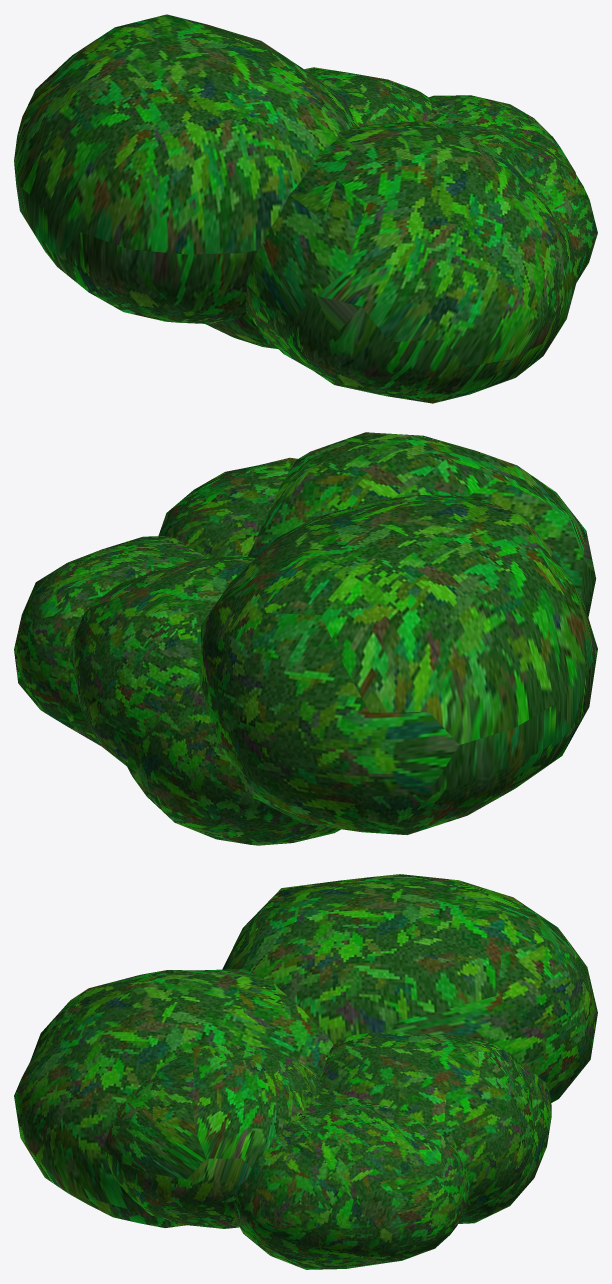
The model's file is plant_bushLarge.glb.
3 renders of one model, top to bottom at view 1: azimuth 30°, elevation 25°; view 2: azimuth 150°, elevation 25°; view 3: azimuth 270°, elevation 25°, orthographic. The views are drawn at different scales.
Visible parts, largest first — view 1: Canopy_3, Canopy_5, Canopy_6, Canopy_1, Canopy_0, Canopy_4; view 2: Canopy_3, Canopy_1, Canopy_5, Canopy_2, Canopy_0, Canopy_6; view 3: Canopy_3, Canopy_5, Canopy_0, Canopy_6, Canopy_1, Canopy_2.
Boxes of the visible parts, x1=… form: Canopy_3: x1=14, y1=14, x2=359, y2=324; Canopy_5: x1=245, y1=121, x2=577, y2=403; Canopy_6: x1=456, y1=129, x2=597, y2=282; Canopy_1: x1=304, y1=67, x2=431, y2=126; Canopy_0: x1=428, y1=95, x2=575, y2=173; Canopy_4: x1=205, y1=313, x2=278, y2=349; Canopy_3: x1=199, y1=495, x2=597, y2=834; Canopy_1: x1=72, y1=555, x2=255, y2=766; Canopy_5: x1=247, y1=432, x2=596, y2=617; Canopy_2: x1=125, y1=681, x2=340, y2=845; Canopy_0: x1=14, y1=536, x2=208, y2=745; Canopy_6: x1=158, y1=457, x2=297, y2=558; Canopy_3: x1=222, y1=874, x2=597, y2=1102; Canopy_5: x1=14, y1=969, x2=333, y2=1227; Canopy_0: x1=233, y1=1091, x2=469, y2=1269; Canopy_6: x1=104, y1=1044, x2=322, y2=1228; Canopy_1: x1=319, y1=1032, x2=533, y2=1213; Canopy_2: x1=458, y1=1063, x2=551, y2=1223.
Bounding box in the file's own units: 2.18 × 1.19 × 2.33.
Materials: 2 (2 with a texture image).
